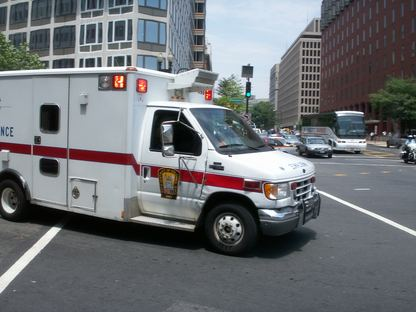ambulance: (0, 66, 321, 256)
